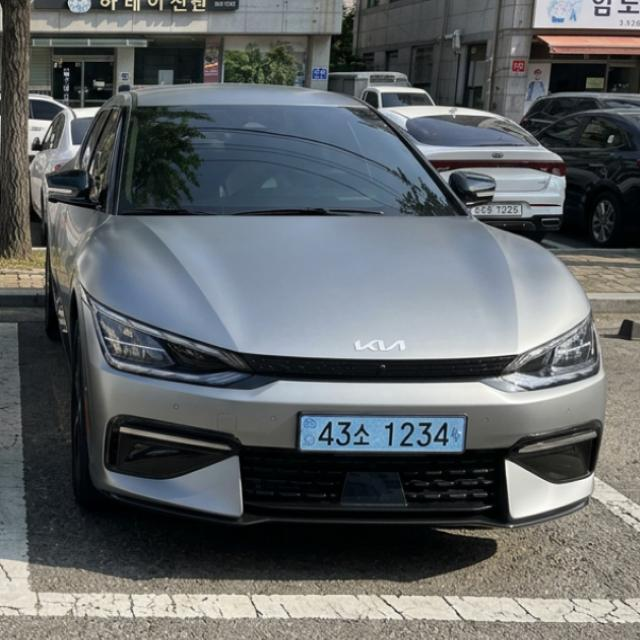car: (285, 403, 478, 466)
carev: (295, 412, 318, 459), (447, 414, 465, 455)
